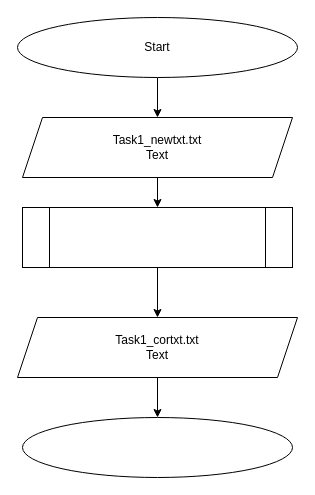
The diagram is 315 pixels wide and 495 high, and some of its shapes have lost their labels. Each missing label, with the centre of its shape:
"del_words(text)" goes at (x=157, y=237).
"End" goes at (x=157, y=447).
